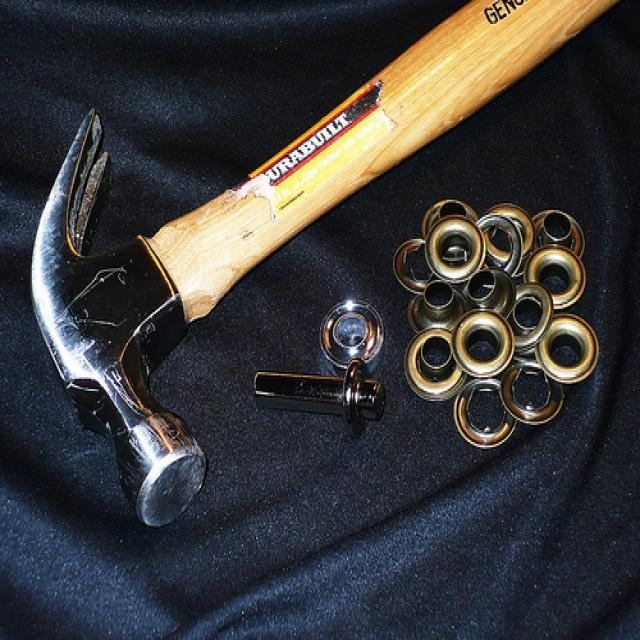hammer: (17, 76, 319, 537)
